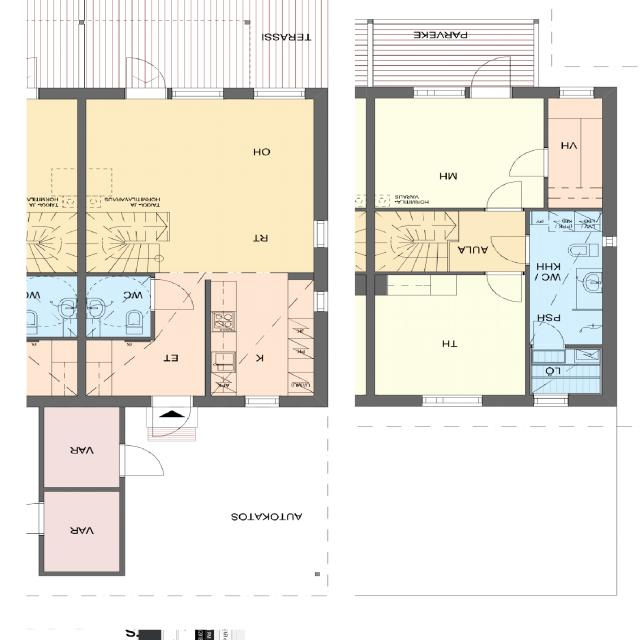door: (471, 56, 510, 98), (127, 58, 165, 99), (152, 396, 190, 436), (119, 445, 163, 475), (150, 280, 191, 310), (490, 236, 530, 263), (509, 149, 548, 176), (487, 181, 521, 211), (487, 272, 521, 302), (532, 321, 562, 348)
